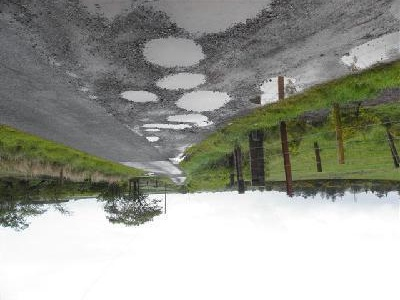pothole: (142, 1, 283, 39), (140, 37, 208, 71), (73, 0, 140, 26), (173, 90, 231, 114), (154, 71, 207, 93), (117, 88, 161, 105), (166, 113, 213, 127), (139, 122, 190, 130), (145, 134, 161, 143)
